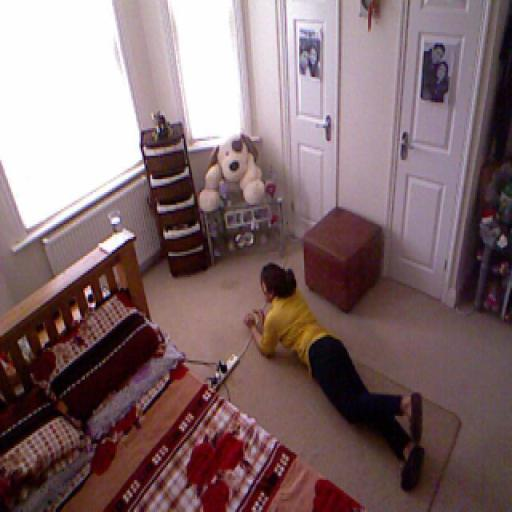Fall: (242, 262, 426, 493)
